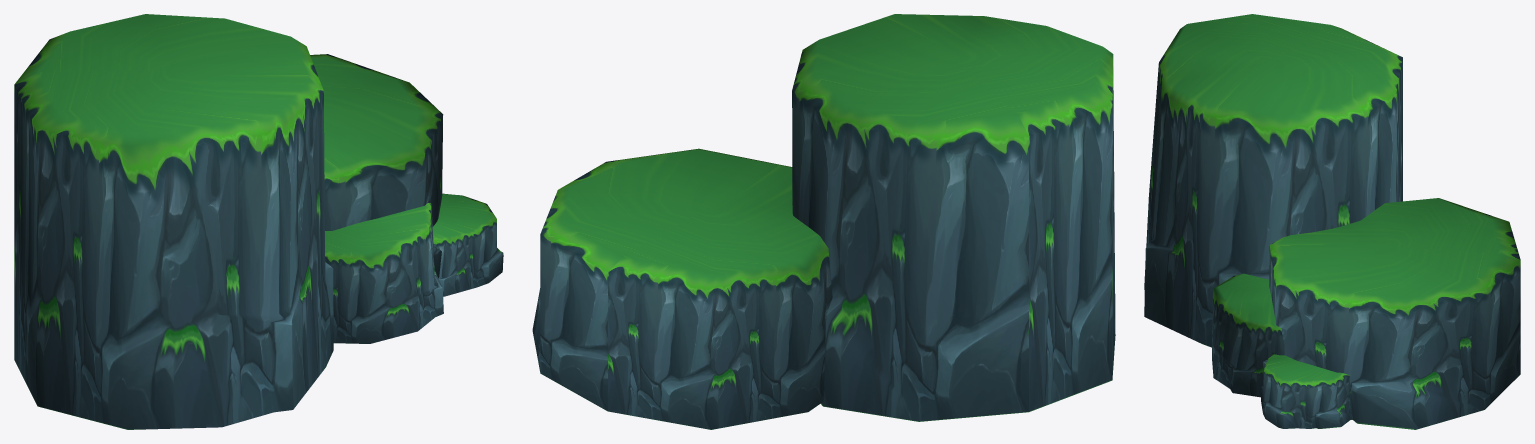
Rendered from rc_01_bud_10.FBX.
3 renders of one model, left to right at view 1: azimuth 30°, elevation 25°; view 2: azimuth 150°, elevation 25°; view 3: azimuth 270°, elevation 25°, orthographic. The views are drawn at different scales.
Parts seen in each view (by area): view 1: Box054; view 2: Box054; view 3: Box054.
Boxes of the visible parts, left/top/right/bottom form: Box054: left=14, top=14, right=503, bottom=429; Box054: left=532, top=14, right=1115, bottom=429; Box054: left=1144, top=14, right=1520, bottom=429.
Size of the model in its own units: 11955 by 9857 by 6903.
